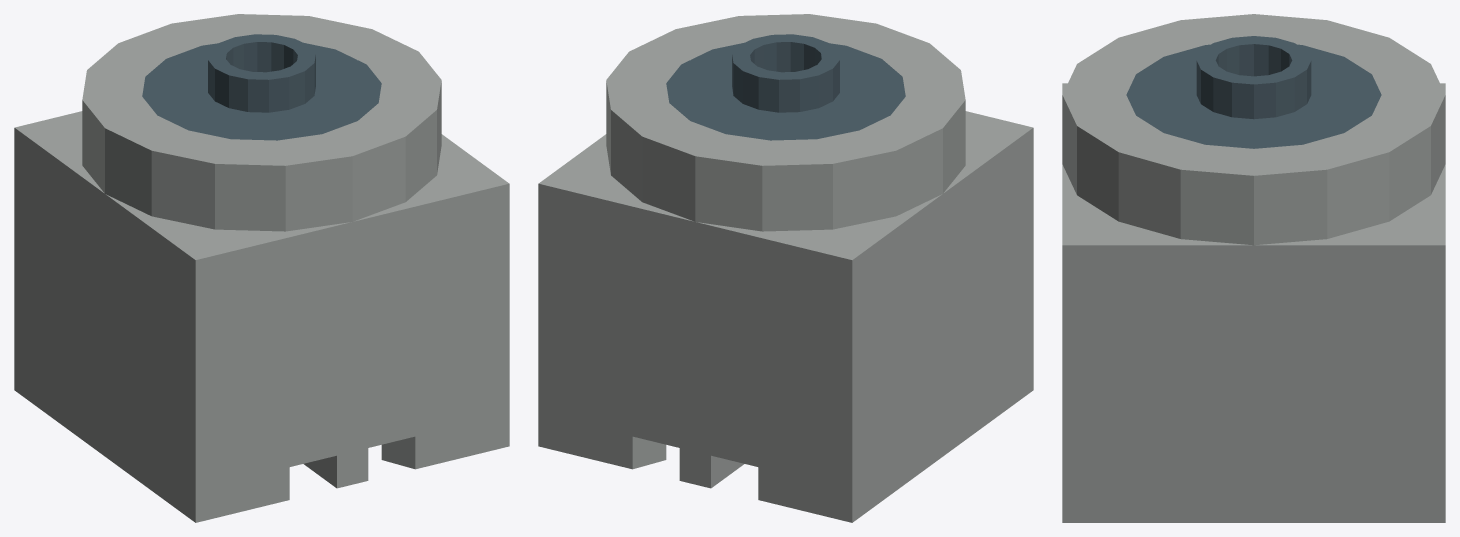
The picture shows the model from 3 angles, left to right: view 1: azimuth 30°, elevation 25°; view 2: azimuth 150°, elevation 25°; view 3: azimuth 270°, elevation 25°; orthographic projection. The views are drawn at different scales.
Parts seen in each view (by area): view 1: world; view 2: world; view 3: world.
Boxes of the visible parts, bbox=[...] form: world: bbox=[14, 14, 509, 522]; world: bbox=[538, 14, 1033, 522]; world: bbox=[1062, 14, 1445, 522].
Size of the model in its own units: 0.016 by 0.0176 by 0.016.
